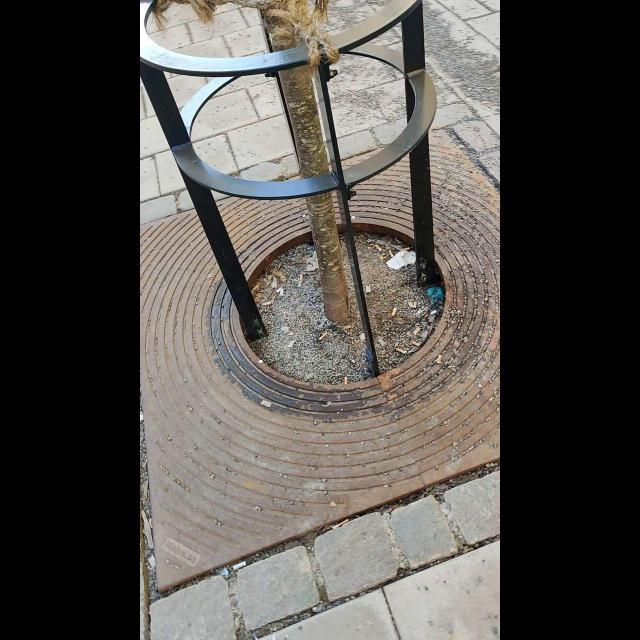cigarette: (332, 517, 347, 529), (233, 560, 247, 571), (260, 398, 272, 407), (393, 347, 408, 354), (318, 332, 327, 342), (413, 326, 420, 336), (413, 341, 422, 348), (436, 354, 442, 364), (343, 376, 349, 386), (400, 246, 410, 252), (251, 284, 259, 291), (375, 244, 382, 251), (366, 285, 371, 294), (262, 301, 271, 306), (430, 310, 437, 316), (344, 323, 350, 330), (389, 249, 394, 256), (299, 275, 303, 283), (392, 309, 396, 316), (414, 301, 417, 308)
